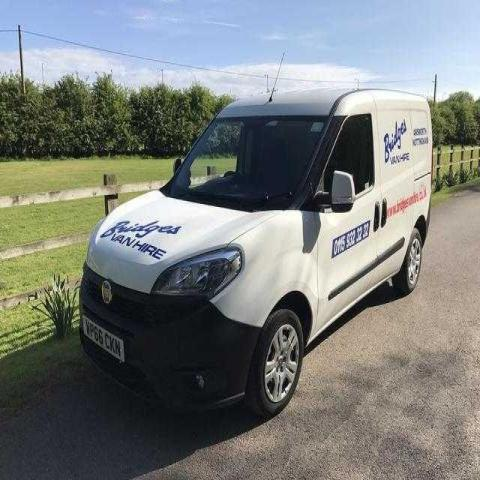van: (78, 85, 434, 419)
